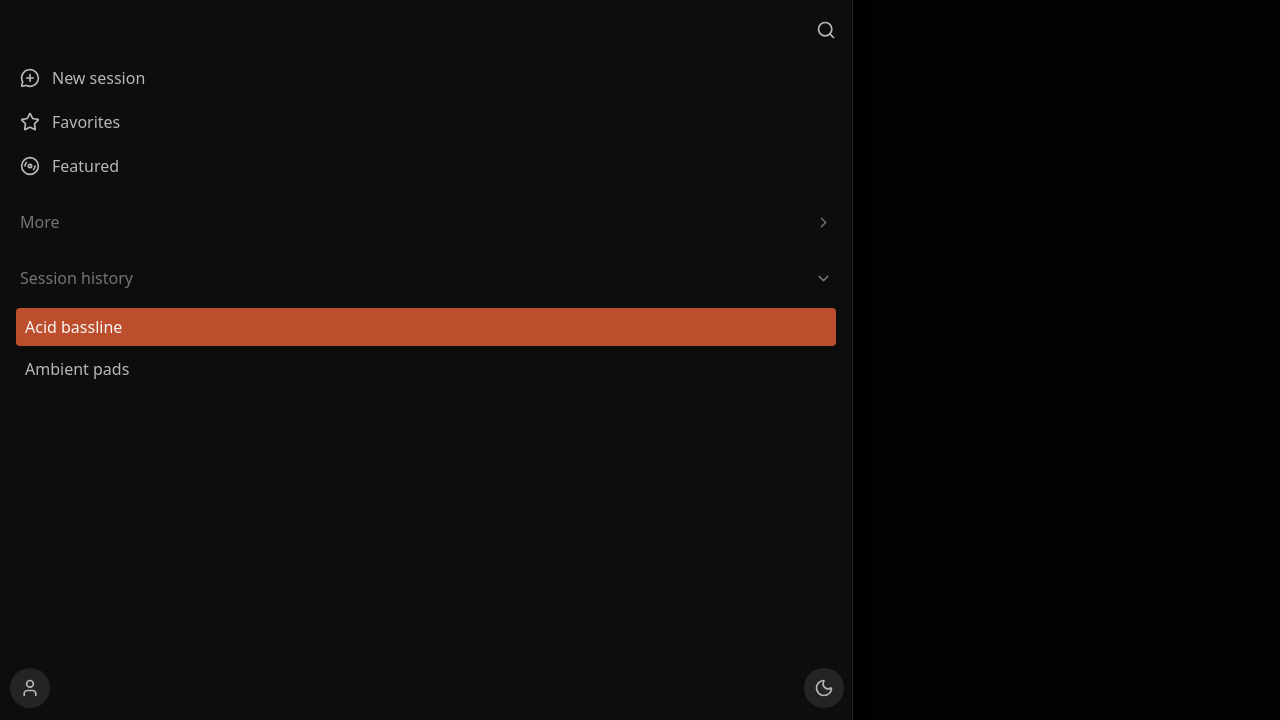
Scenario: MobileNavDrawer search › stands the destinations aside while the search is up, and back after
Step 1. Click the button named "Search" → (826, 30), box [808, 12, 844, 48]
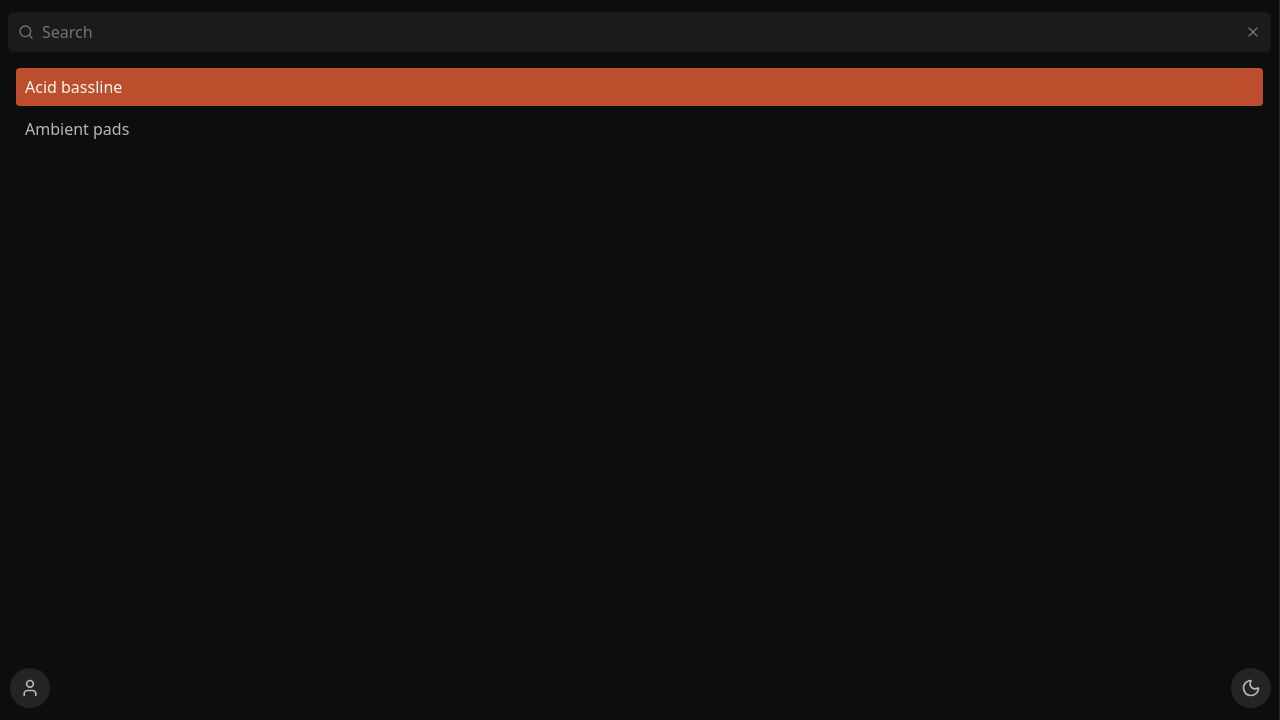
Step 2. Press Escape in the field with test id "drawer-search-input", box [42, 20, 1237, 44]
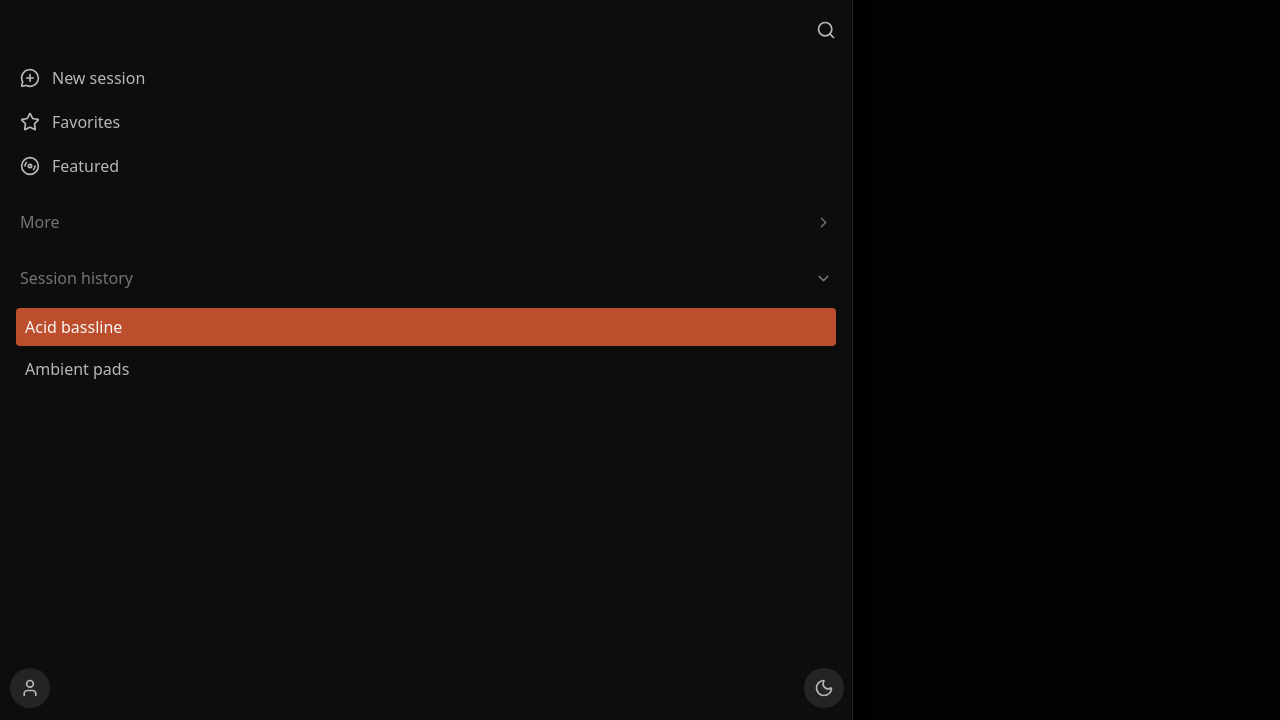
Now the field with test id "drawer-search-input" is gone
